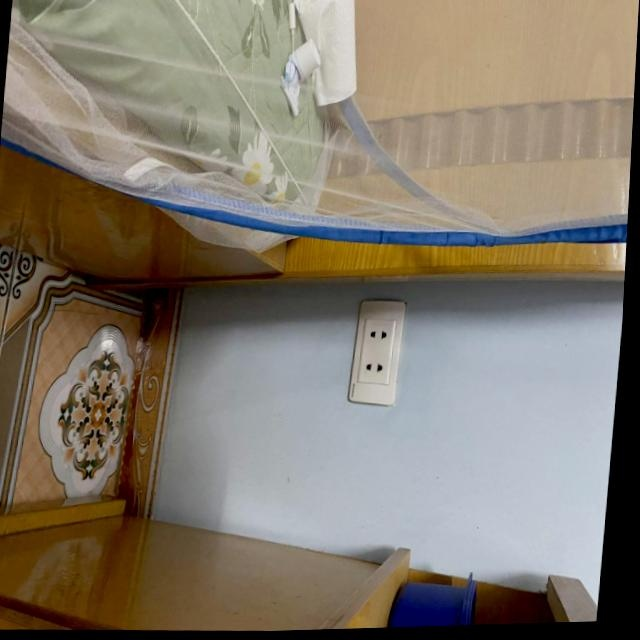outlet: (346, 297, 405, 406)
